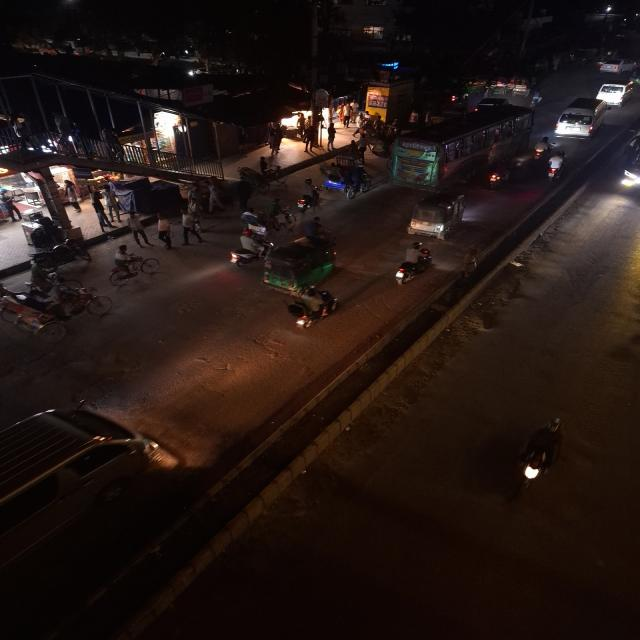bicycle: (105, 252, 162, 290)
bus: (389, 102, 534, 188)
car: (552, 96, 610, 140), (616, 131, 640, 197), (596, 74, 639, 106), (597, 56, 638, 74)
cng: (260, 238, 340, 294), (404, 191, 468, 239)
motorcycle: (282, 284, 341, 332), (394, 242, 436, 288), (486, 156, 514, 188), (225, 246, 262, 270), (544, 149, 568, 183), (294, 186, 322, 214), (533, 136, 553, 160)
pedestrian: (124, 212, 152, 248), (179, 209, 202, 248), (152, 214, 176, 250)
rickshaw: (1, 278, 101, 340), (321, 163, 376, 198), (238, 209, 299, 239)
